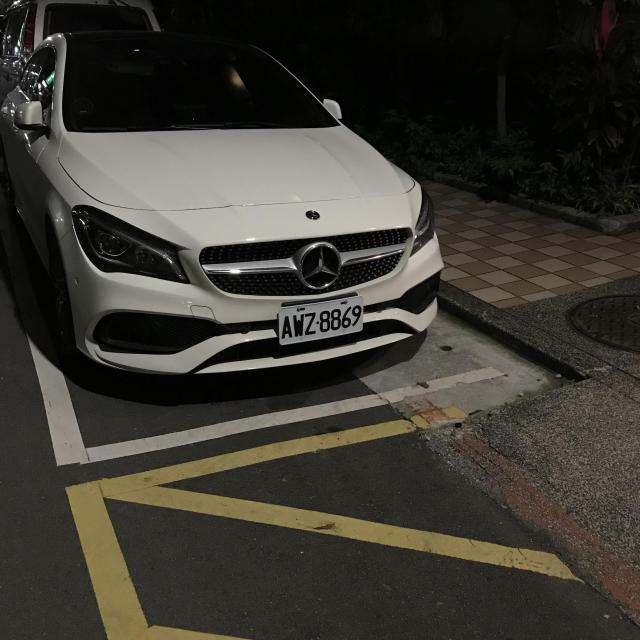W: (270, 295, 370, 345)
